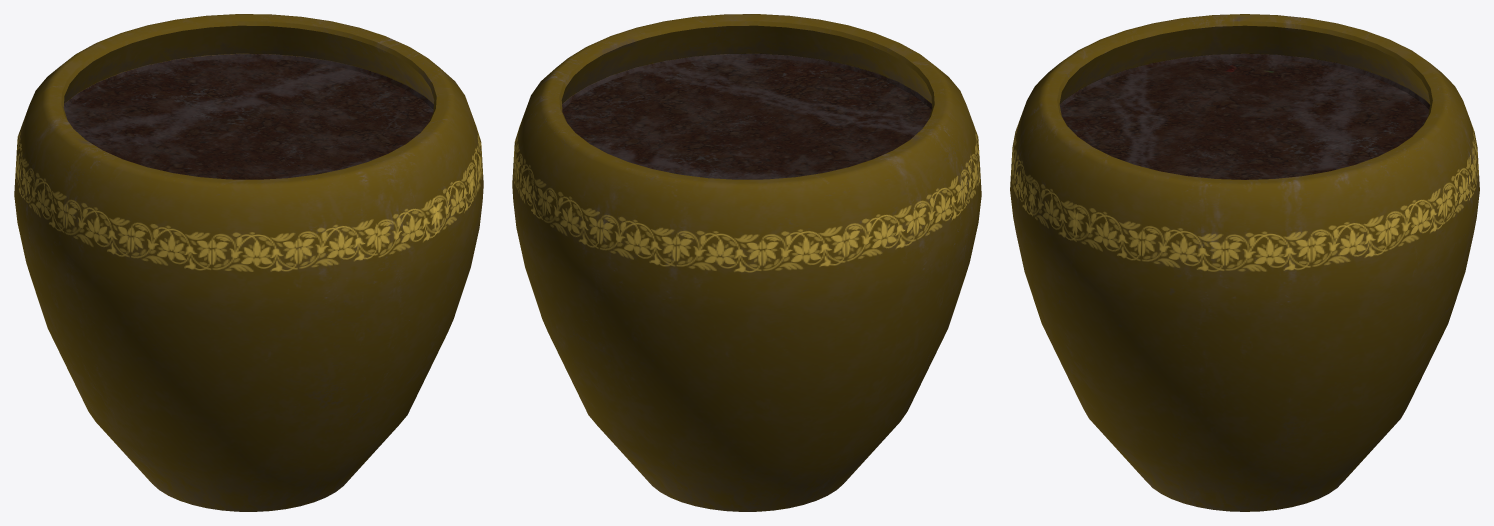
Rendered from SM_GoldenPot.fbx.
3 views of the same model, side by side, from view 1: azimuth 30°, elevation 25°; view 2: azimuth 150°, elevation 25°; view 3: azimuth 270°, elevation 25° (orthographic).
Parts seen in each view (by area): view 1: SM_GoldenPot_LOD0; view 2: SM_GoldenPot_LOD0; view 3: SM_GoldenPot_LOD0.
Boxes of the visible parts, <box> form: SM_GoldenPot_LOD0: <box>14,14,483,511</box>; SM_GoldenPot_LOD0: <box>512,14,981,511</box>; SM_GoldenPot_LOD0: <box>1010,14,1479,511</box>.
Size of the model in its own units: 11.54 by 11.54 by 10.
1 material, 1 textured.
